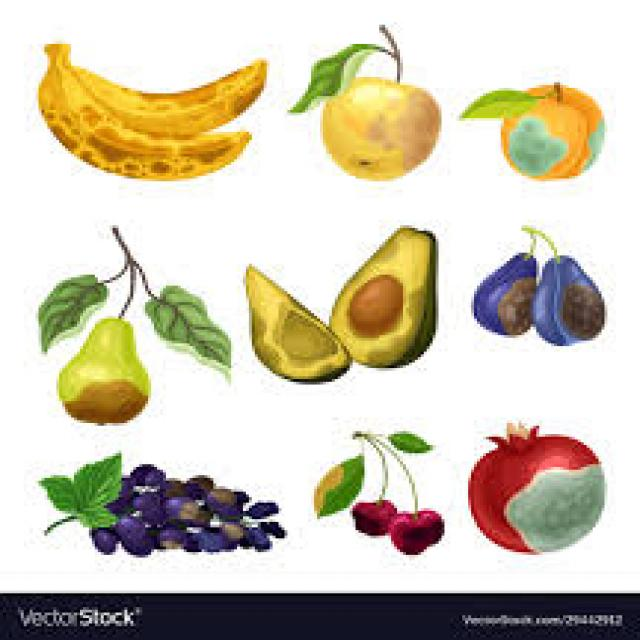organic waste: (35, 41, 249, 179), (56, 41, 264, 132), (465, 418, 602, 552), (86, 461, 281, 555), (326, 222, 435, 366), (243, 264, 350, 379), (320, 77, 439, 178), (498, 77, 601, 178), (56, 316, 145, 423), (142, 283, 231, 371), (530, 253, 604, 343), (38, 450, 118, 533), (287, 38, 373, 112), (471, 247, 533, 335), (36, 272, 104, 349), (344, 275, 400, 338), (311, 454, 362, 516), (456, 88, 536, 118), (385, 508, 430, 552), (350, 497, 394, 533), (388, 431, 433, 453), (415, 508, 441, 541)
